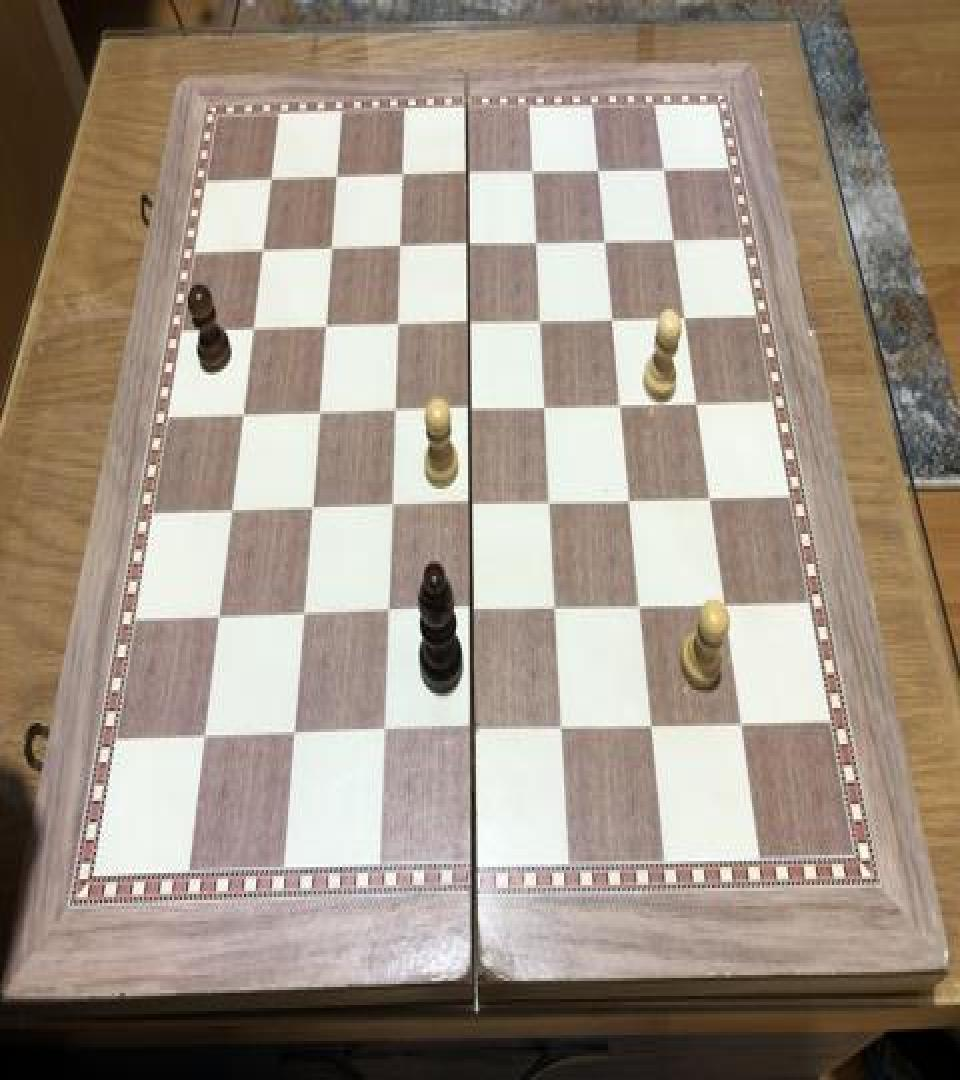xcorner: (372, 712, 396, 749), (651, 154, 675, 190), (586, 154, 610, 190), (521, 154, 545, 190), (456, 156, 480, 192), (391, 156, 415, 192), (326, 158, 350, 194), (261, 158, 285, 194), (661, 224, 685, 260), (593, 225, 617, 261), (525, 225, 549, 261), (457, 226, 481, 262), (389, 226, 413, 262), (320, 226, 344, 262), (252, 228, 276, 264), (673, 302, 697, 338), (601, 302, 625, 338), (529, 303, 553, 339), (458, 303, 482, 339), (386, 304, 410, 340), (314, 304, 338, 340), (243, 304, 267, 340), (685, 387, 709, 423), (610, 387, 634, 423), (534, 388, 558, 424), (459, 388, 483, 424), (383, 390, 407, 426), (308, 390, 332, 426), (232, 392, 256, 428), (699, 482, 723, 518), (619, 483, 643, 519), (540, 483, 564, 519), (460, 484, 484, 520), (380, 484, 404, 520), (300, 486, 324, 522), (220, 486, 244, 522), (715, 588, 739, 624), (630, 590, 654, 626), (546, 590, 570, 626), (461, 591, 485, 627), (376, 592, 400, 628), (292, 592, 316, 628), (207, 594, 231, 630), (733, 708, 757, 744), (643, 710, 667, 746), (553, 711, 577, 747), (463, 711, 487, 747), (282, 714, 306, 750), (192, 714, 216, 750)
